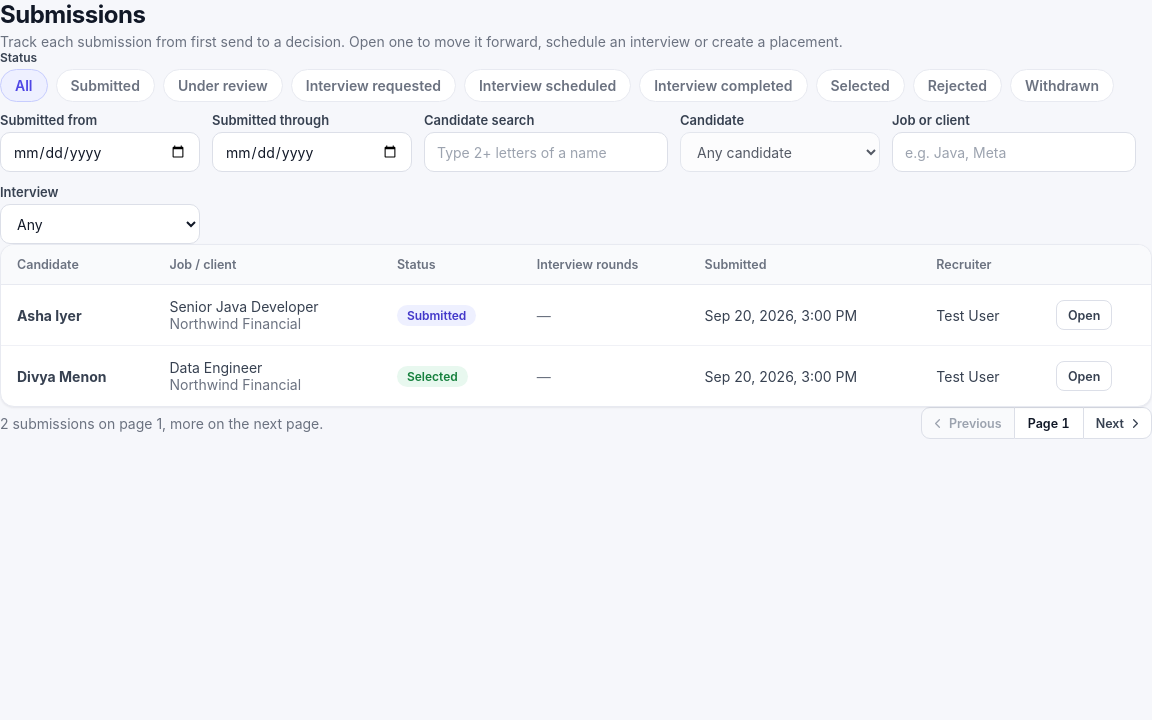
Submission detail › offers exactly the transitions in actions and moves the submission forward
What coordinates should you click on to do the following:
click the button with aria-label "Open submission of "
I would click on:
 (1084, 315)
Its box is [1056,300,1112,330].
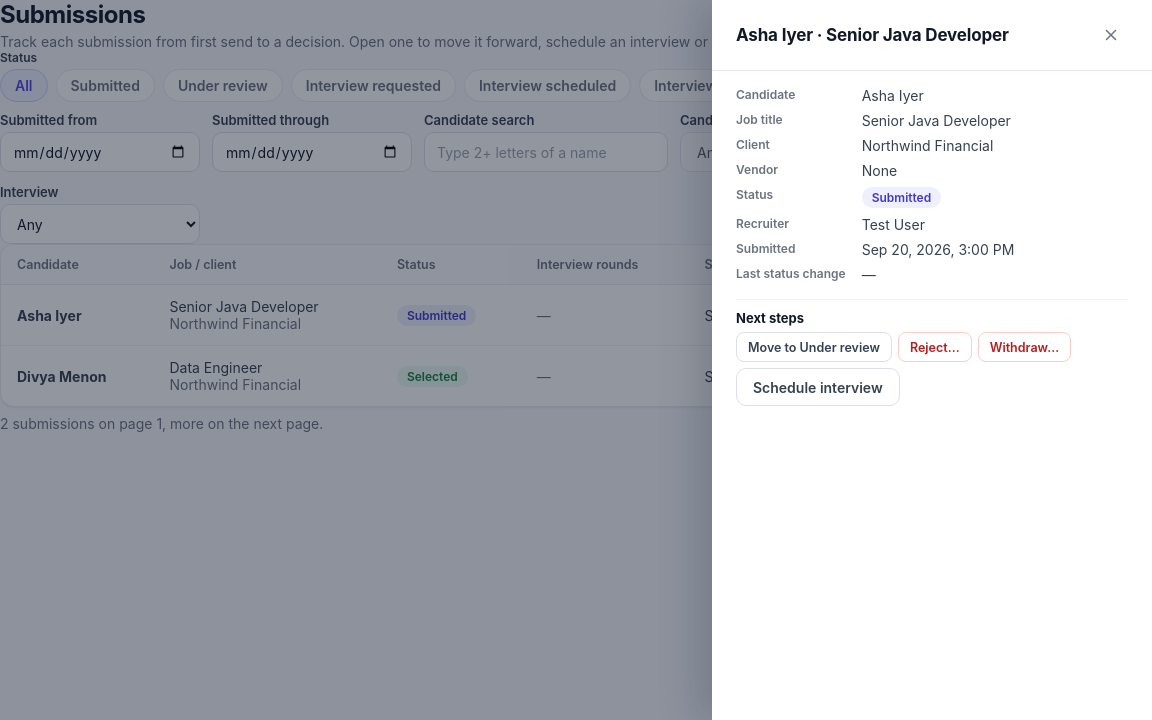
Result: the buttons read "Move to Under review", "Reject…", "Withdraw…", in this order
Result: the button "Schedule interview" is shown at [736,368,900,406]
What coordinates should you click on to do the following:
click the button "Move to Under review"
I would click on:
 (814, 347)
Its box is [736,332,892,362].
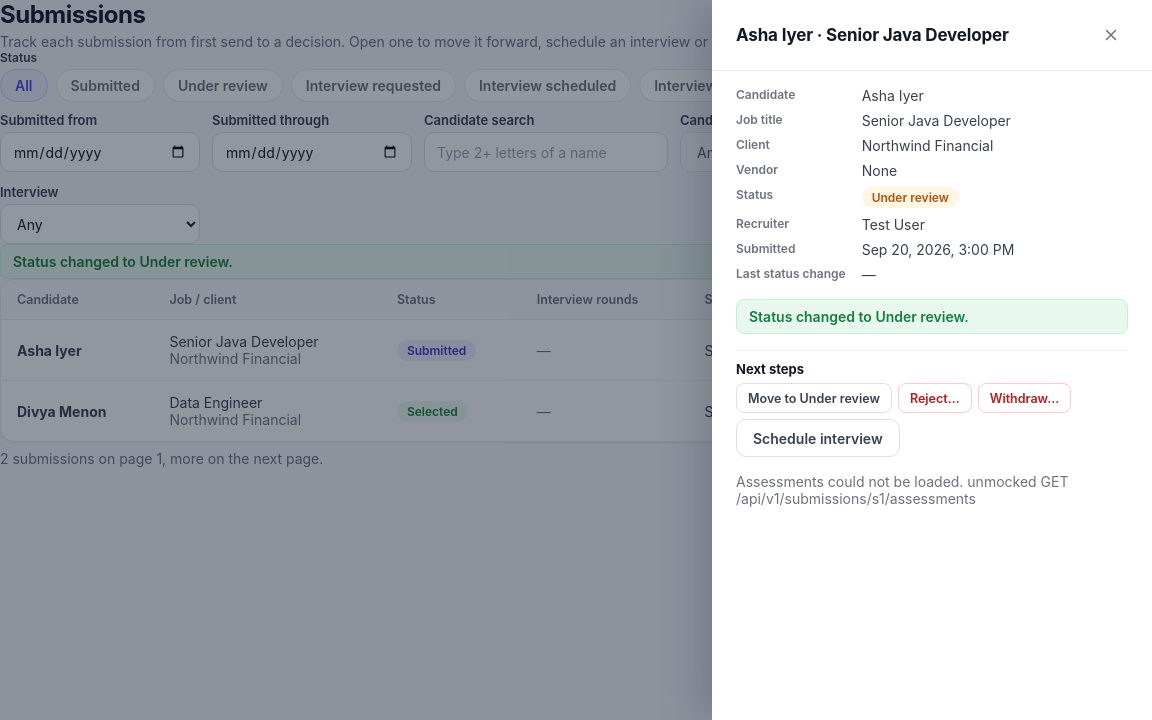
Result: the message "Status changed to Under review." below "Last status change" is shown at [749,308,969,325]
Result: the text "Under review" is shown at [862,187,959,208]
